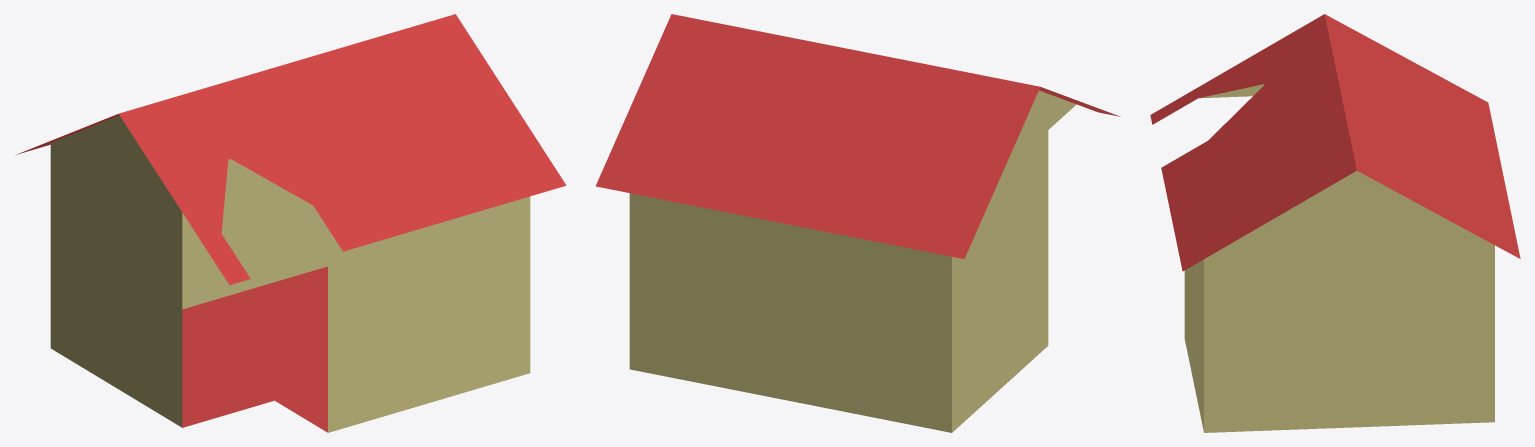
The picture shows the model from 3 angles, left to right: view 1: azimuth 30°, elevation 25°; view 2: azimuth 150°, elevation 25°; view 3: azimuth 270°, elevation 25°; orthographic projection. The views are drawn at different scales.
Size of the model in its own units: 16.96 by 15.7 by 12.47.
